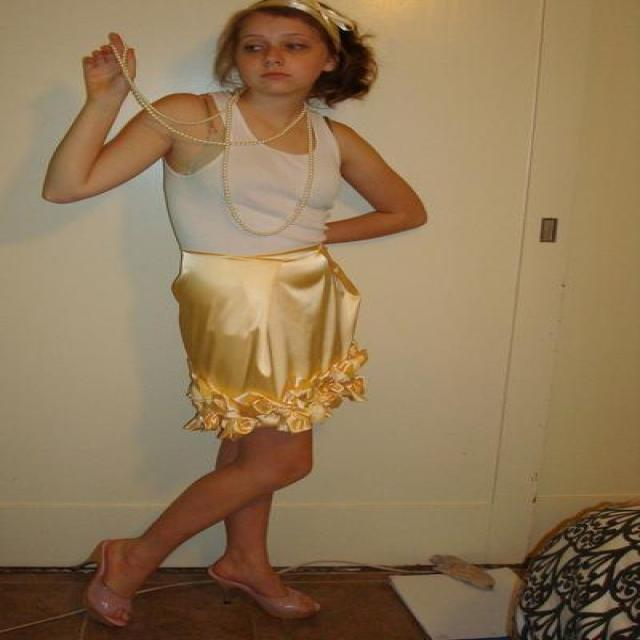shirt: (152, 78, 349, 260)
shoe: (85, 539, 304, 624)
skirt: (171, 251, 370, 437)
